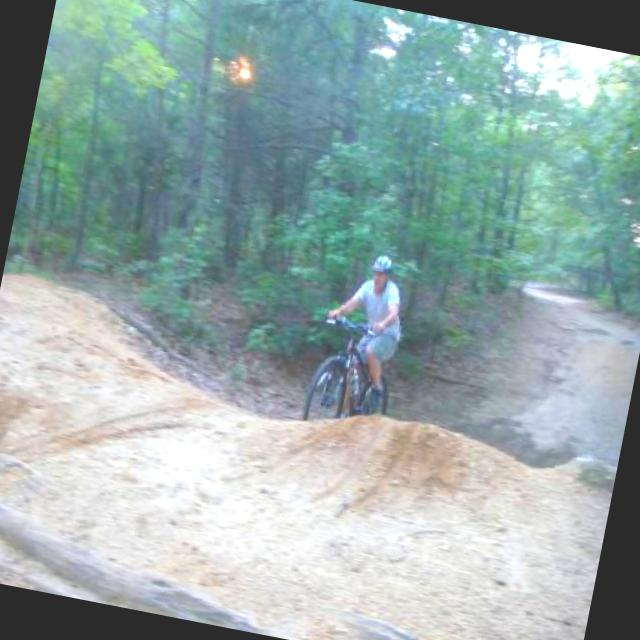Person: (310, 245, 412, 425)
